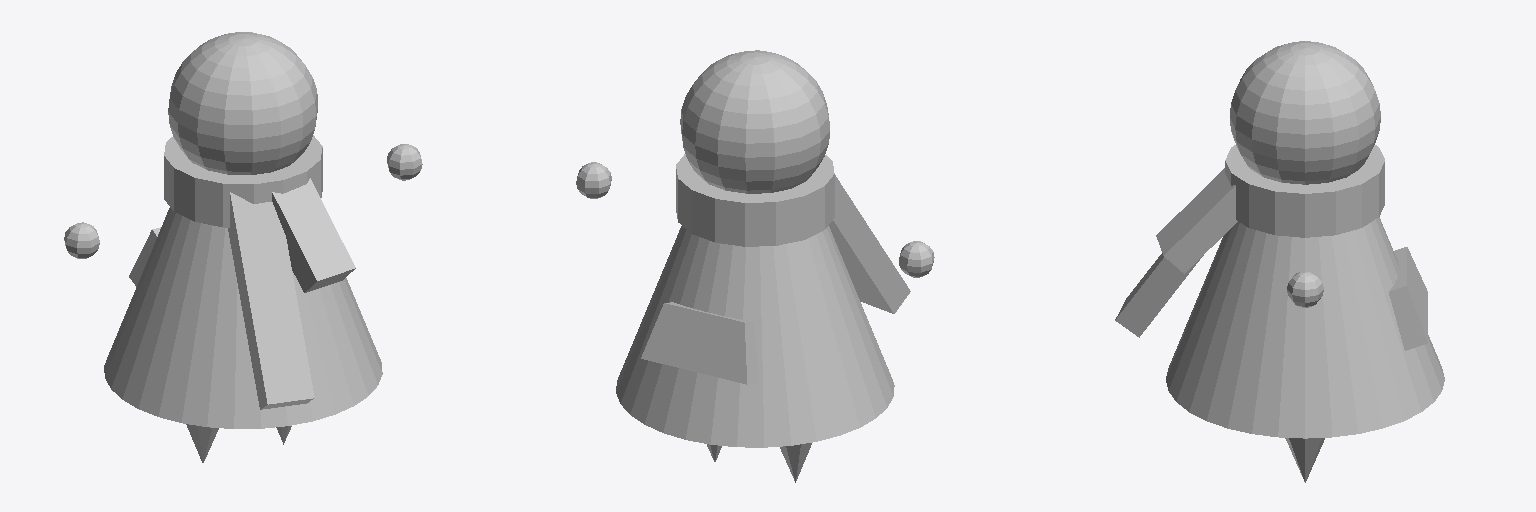
The model's file is feo.obj.
3 views of the same model, side by side, from view 1: azimuth 30°, elevation 25°; view 2: azimuth 150°, elevation 25°; view 3: azimuth 270°, elevation 25° (orthographic).
Parts seen in each view (by area): view 1: Body, Head, ScarfTrail2, Scarf, ScarfTrail1, HandRight, HandLeft, LegLeft, Pocket; view 2: Body, Head, Scarf, Pocket, ScarfTrail2, HandLeft, HandRight, LegLeft; view 3: Body, Head, Scarf, ScarfTrail1, ScarfTrail2, Pocket, HandRight, LegRight.
Part boxes in pixels (x1,y1,x2,y2): Body: (104,207,382,428); Head: (168,32,317,174); ScarfTrail2: (228,192,314,409); Scarf: (164,135,322,227); ScarfTrail1: (272,178,355,292); HandRight: (387,144,422,180); HandLeft: (64,222,99,258); LegLeft: (186,424,218,462); Pocket: (129,227,160,286); Body: (616,226,894,447); Head: (680,50,829,193); Scarf: (676,154,834,246); Pocket: (641,302,758,384); ScarfTrail2: (829,175,910,313); HandLeft: (899,241,934,277); HandRight: (576,162,611,198); LegLeft: (780,443,811,482); Body: (1166,217,1444,438); Head: (1230,41,1380,184); Scarf: (1225,145,1384,237); ScarfTrail1: (1156,168,1237,273); ScarfTrail2: (1115,253,1203,337); Pocket: (1389,247,1427,350); HandRight: (1287,271,1323,307); LegRight: (1285,438,1324,482).
Size of the model in its own units: 2.2 by 2.46 by 1.77.